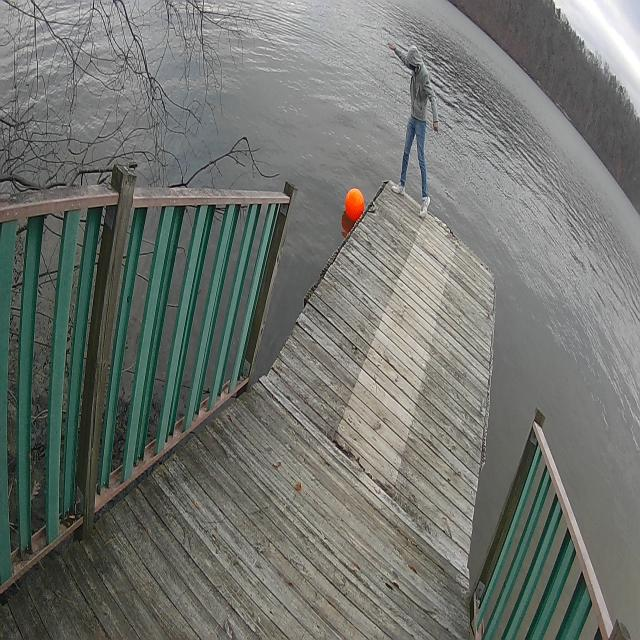Buoy: (340, 182, 371, 228)
